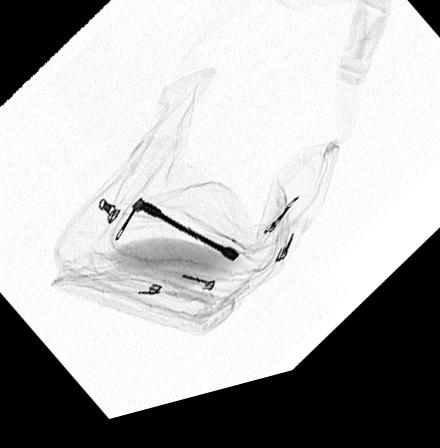Wrench: (135, 208, 237, 274)
